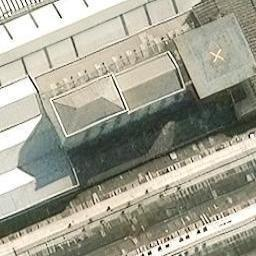heliponto: (189, 27, 246, 84)
